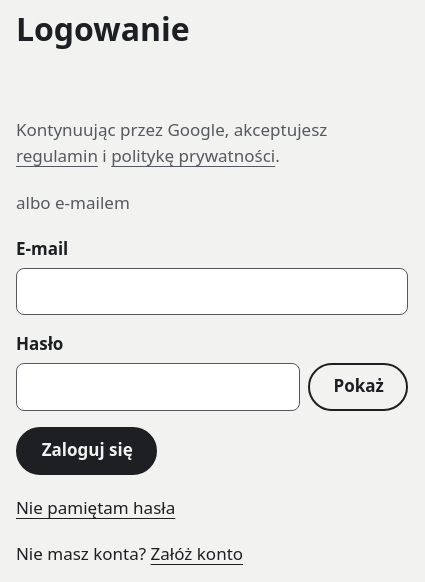
Test case: login page › sends the form only once while waiting for the backend
The width and height of the screenshot is (425, 582).
Type "ola@example.com" into the field labelled "E-mail" at [212, 291], box [16,268,408,315]
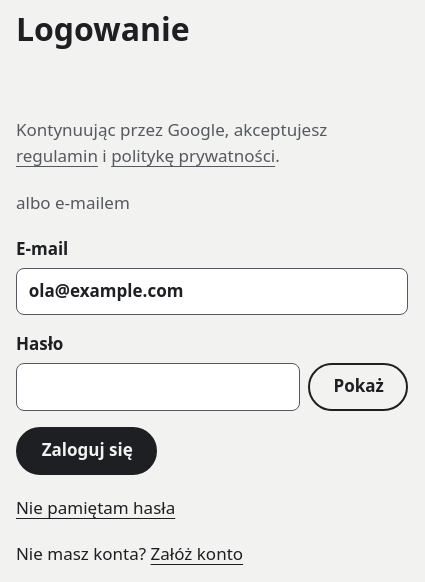
Type "dlugie-haslo-123" into the password field labelled "Hasło" at [158, 387], box [16,363,300,411]
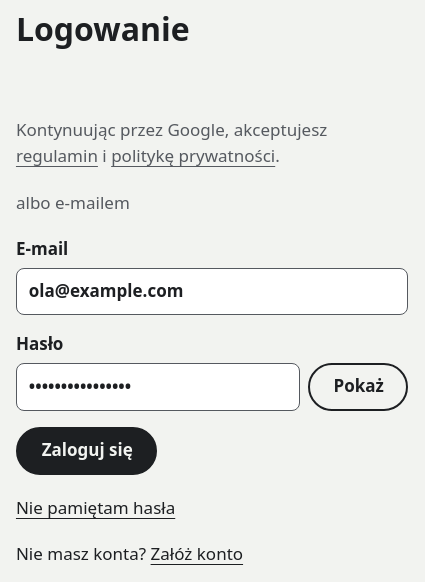
Submit the form, box [16,236,408,475]
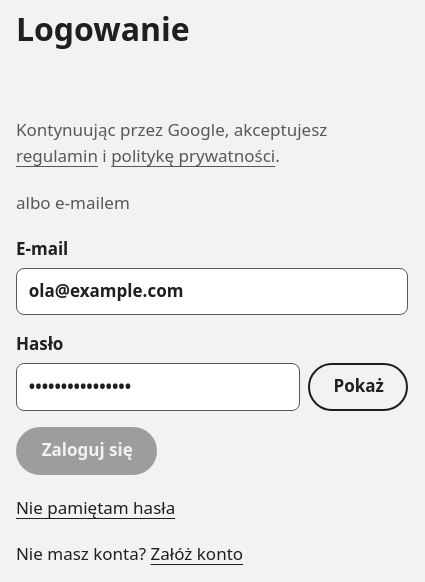
Result: the submit button is disabled at [16,427,157,475]
